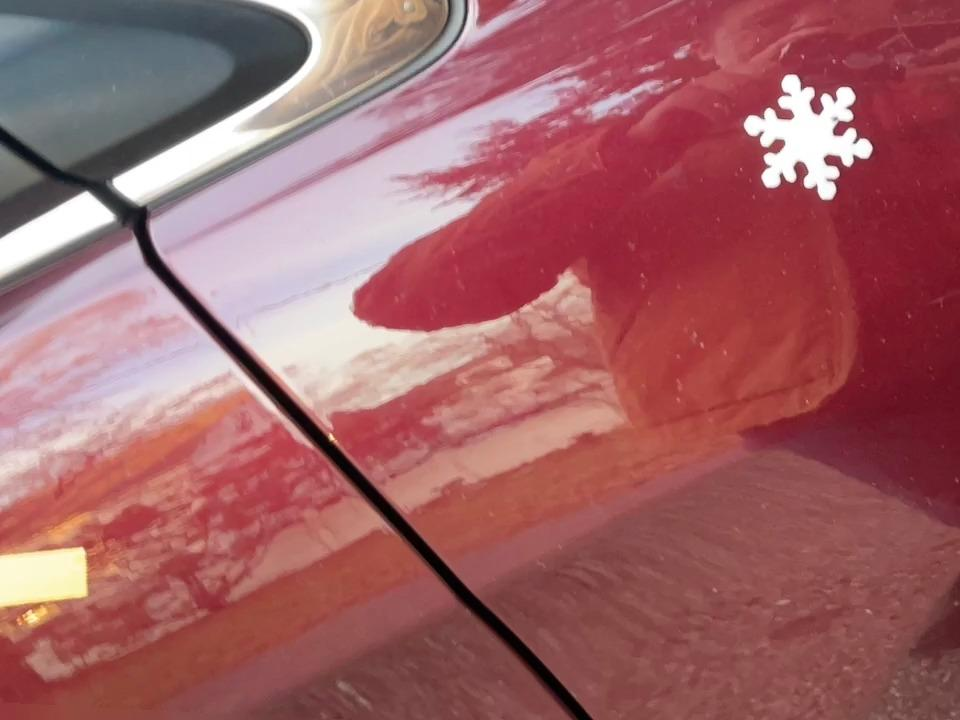dent: (739, 59, 886, 213)
